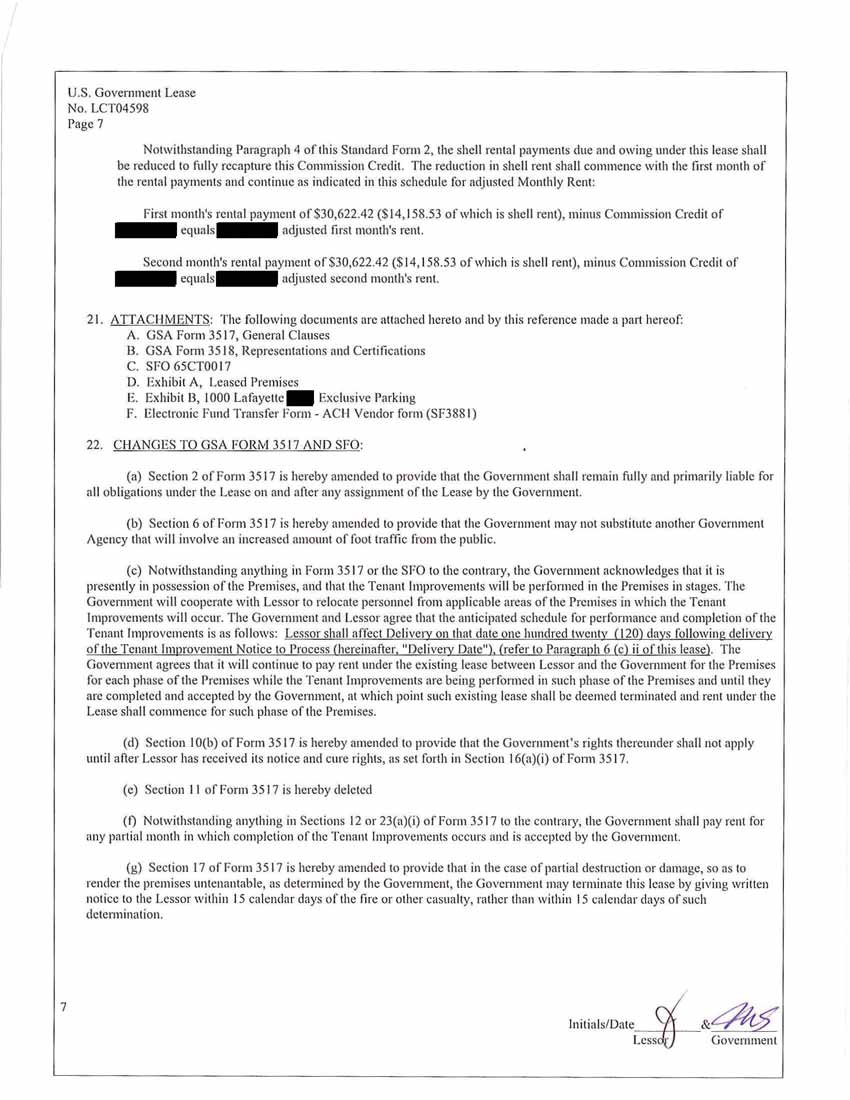handwritten: (708, 996, 784, 1037), (644, 996, 684, 1043)
